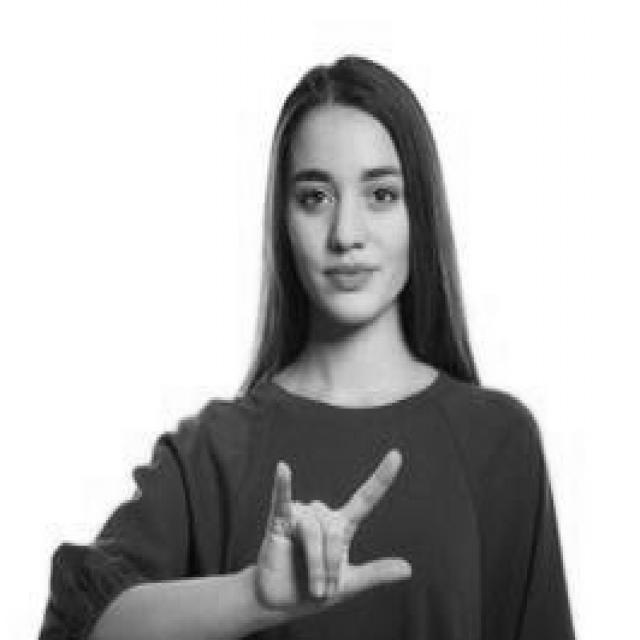i love you: (248, 442, 417, 628)
